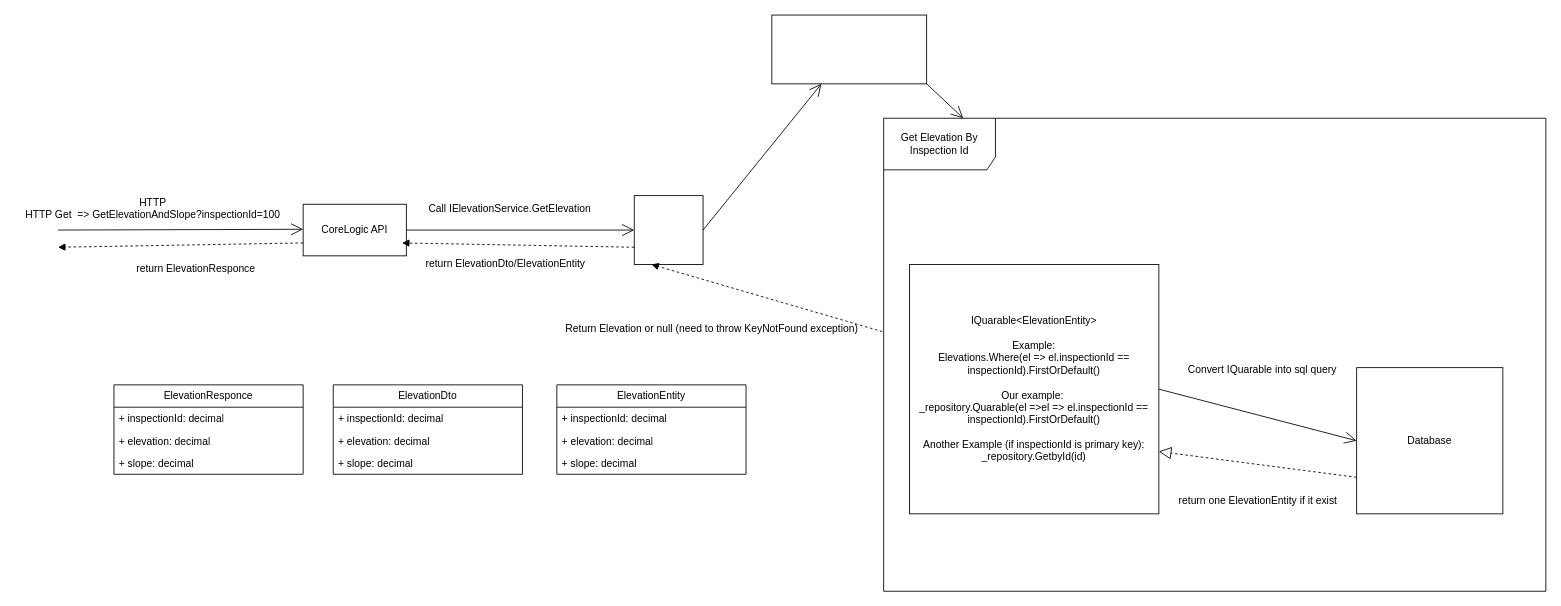
Some shapes in this 1561 by 606 pixel diagram are drawn without their labels. The centre of each missing label's shape, as x and y in pixels:
"CoreLogic Infrastructure" goes at (x=668, y=229).
"Repository<ElevationEntity>" goes at (x=849, y=49).
